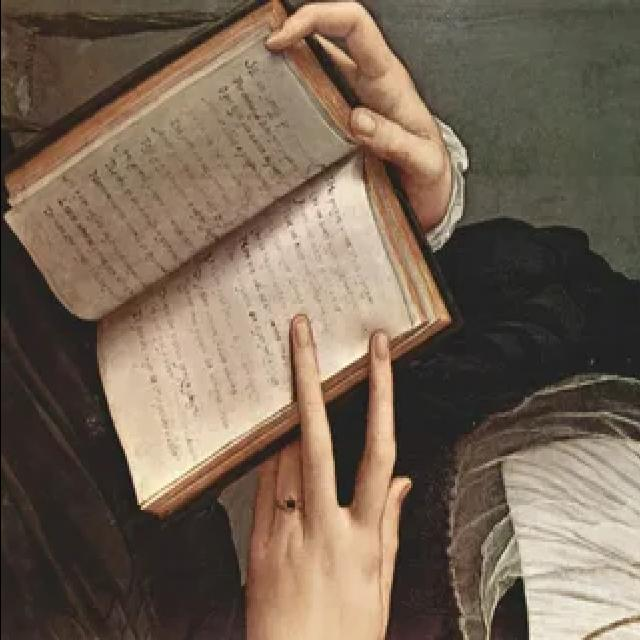book: (0, 1, 464, 526)
